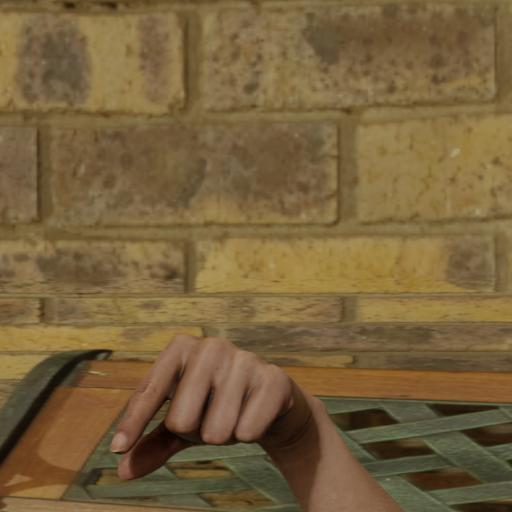Q: (98, 317, 346, 512)
